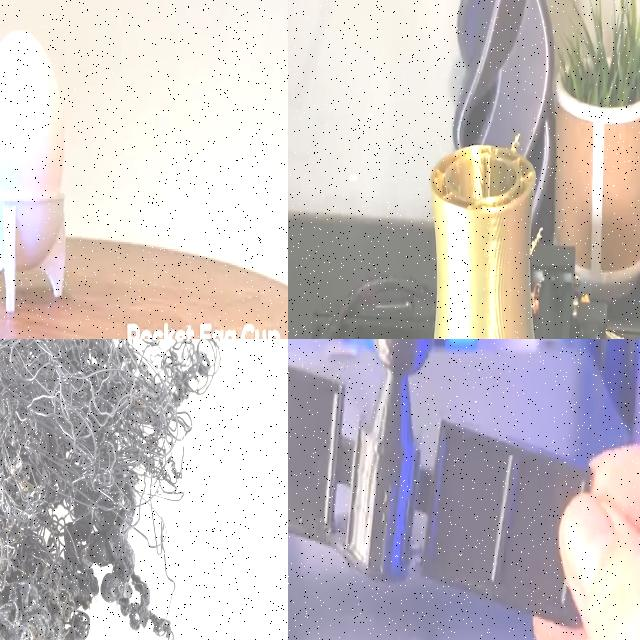spaghetti: (507, 133, 527, 153)
